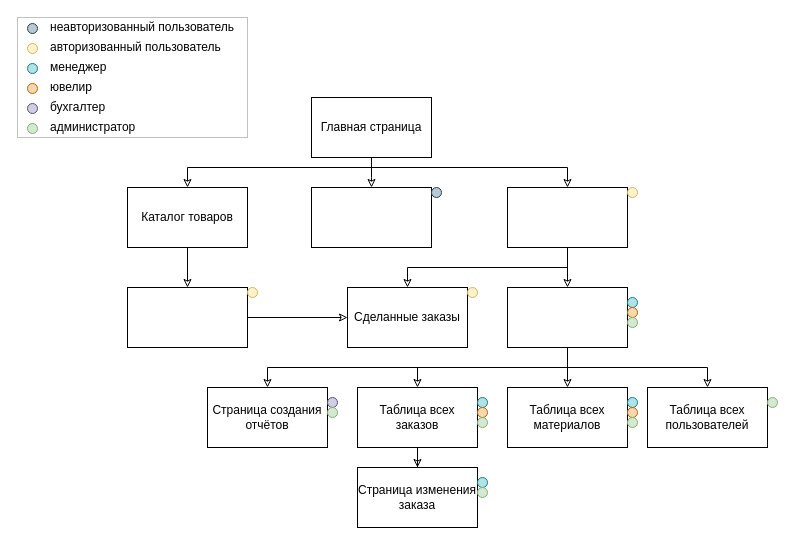
Image size: 795x545. Some labels were removed from this diagram. Each missing label, with the box of its shape:
Данные о профиле пользователя: (506, 186, 628, 248)
Оформление заказа: (126, 286, 248, 348)
Панель администратора: (506, 286, 628, 348)
Страница авторизации: (310, 186, 432, 248)
